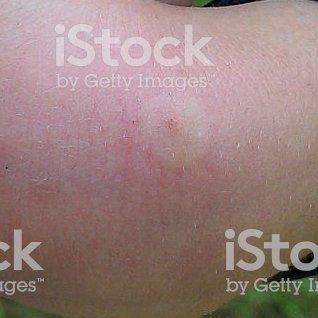Reupload: (144, 96, 206, 170)
